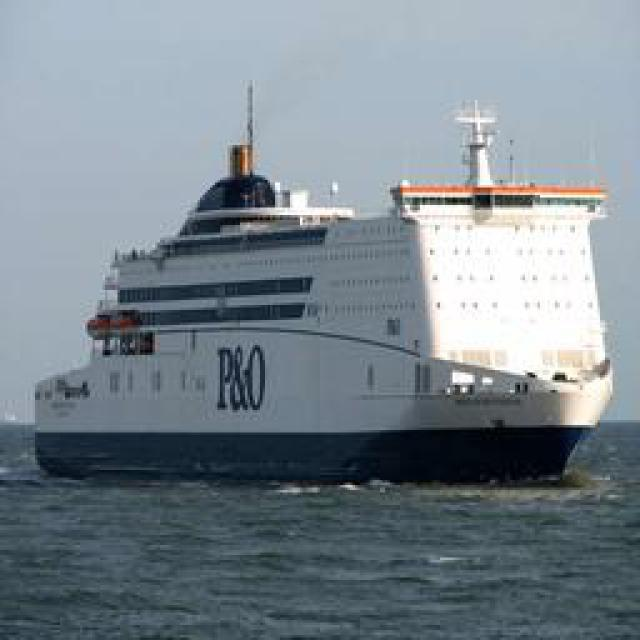Ship: (40, 99, 623, 484)
